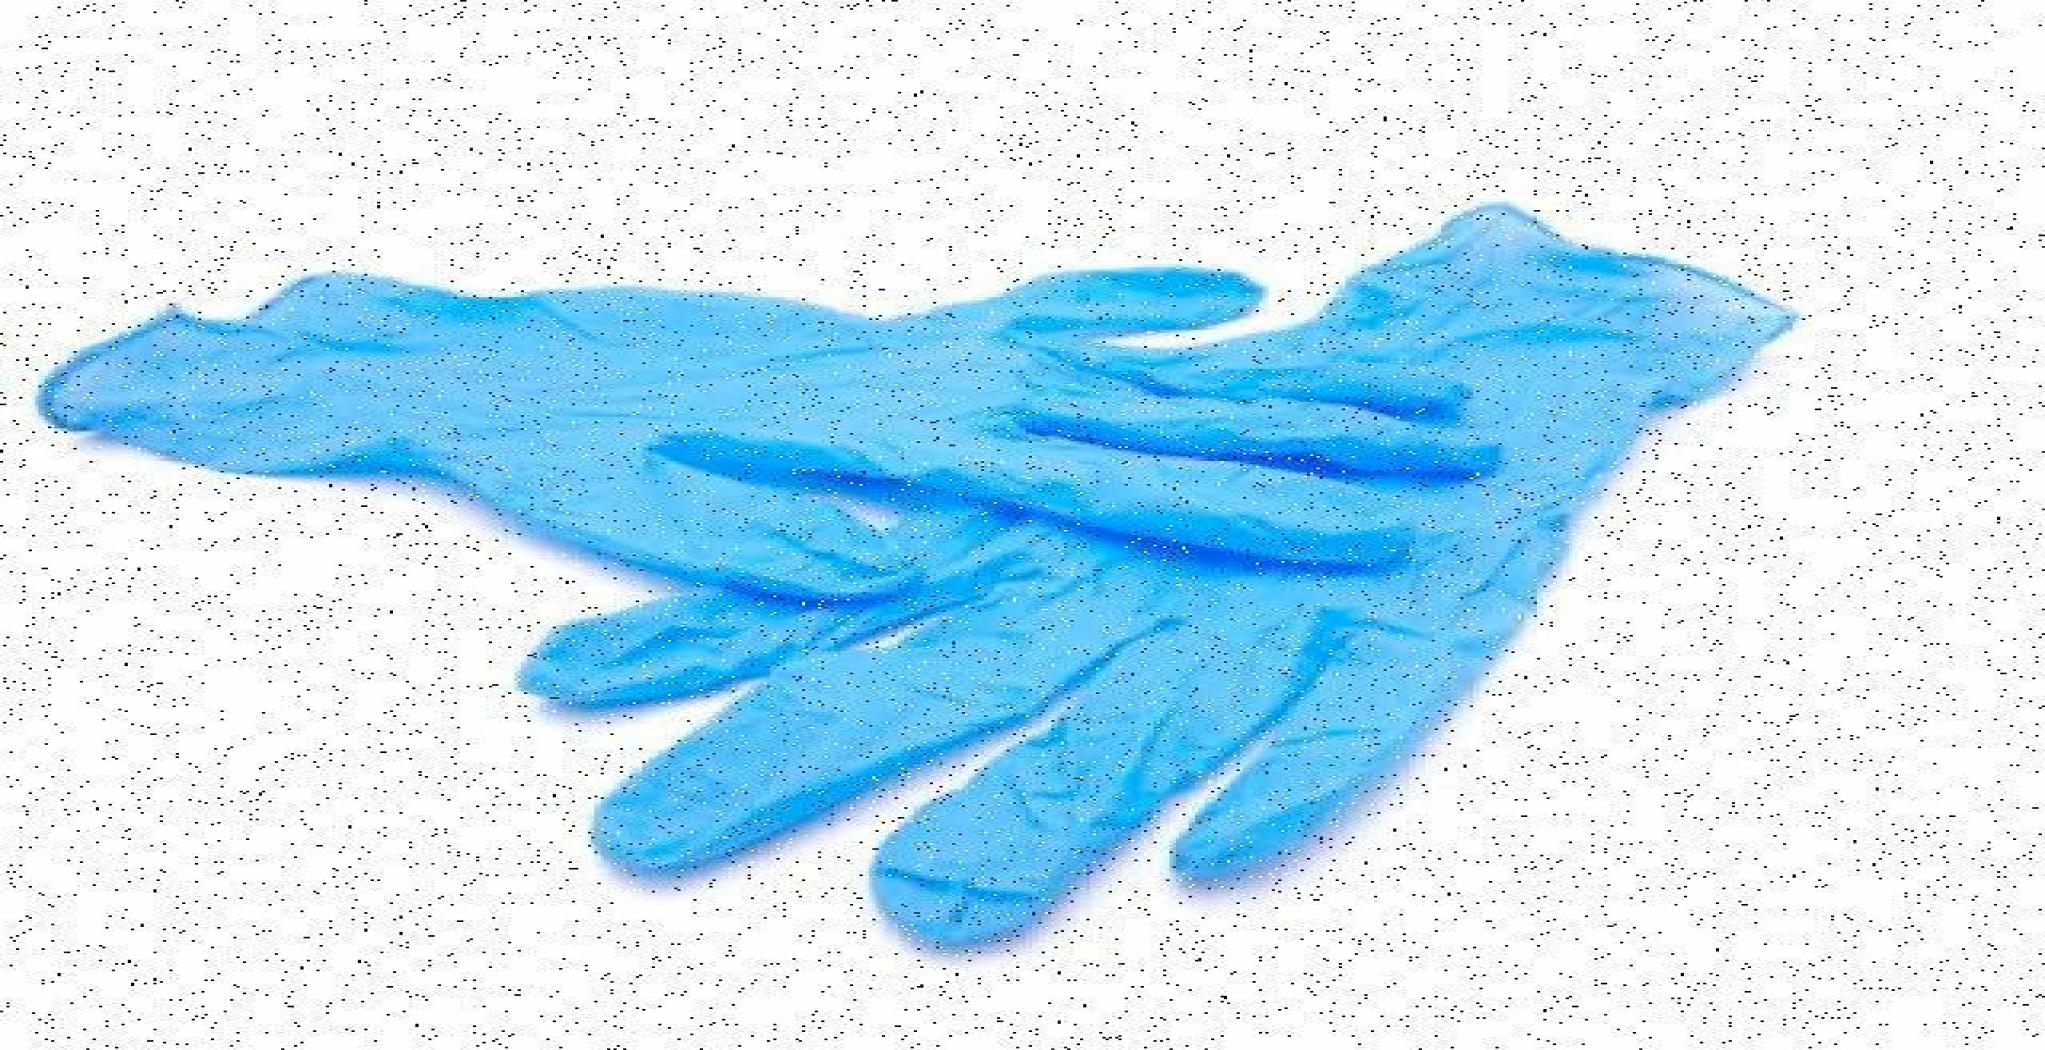gloved: (652, 206, 1638, 895), (129, 249, 1483, 581)
